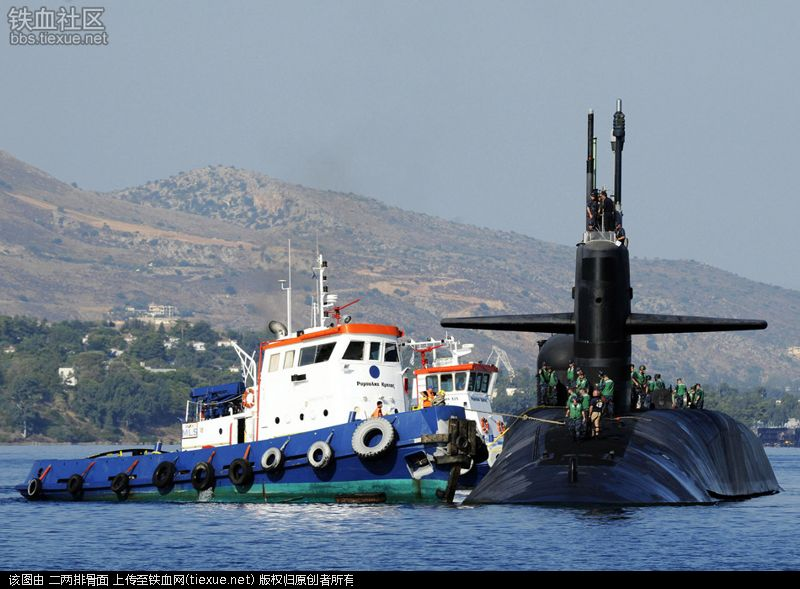otherboat: (17, 270, 506, 510)
